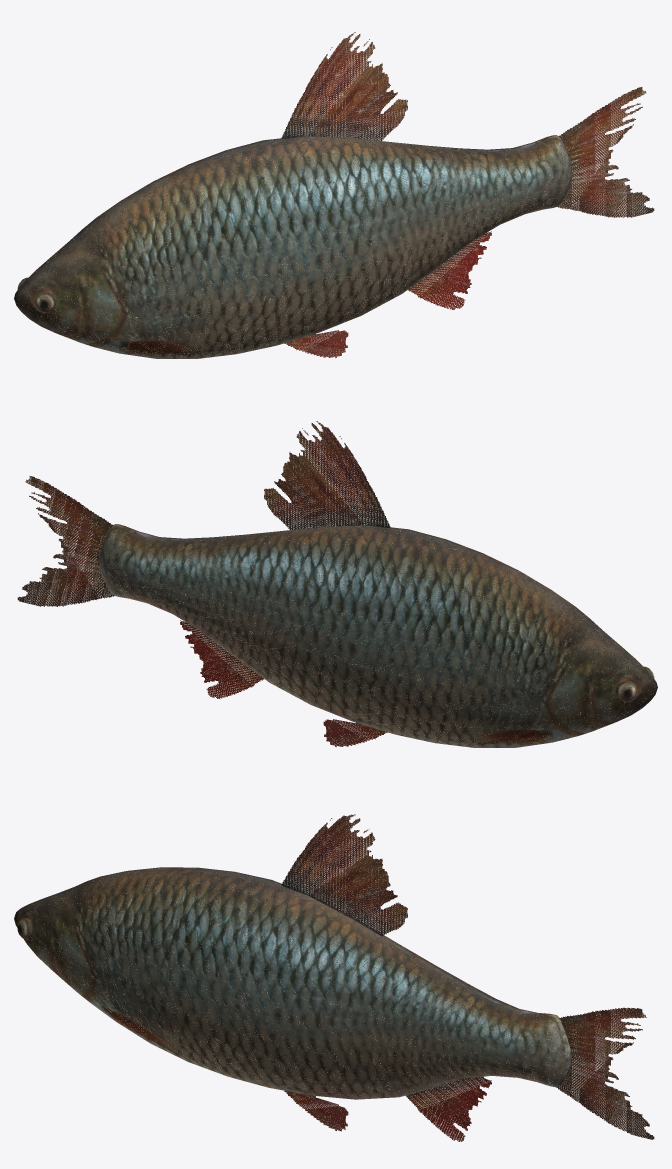
3 renders of one model, top to bottom at view 1: azimuth 30°, elevation 25°; view 2: azimuth 150°, elevation 25°; view 3: azimuth 330°, elevation 25°, orthographic.
Parts seen in each view (by area): view 1: FISH_Combined; view 2: FISH_Combined; view 3: FISH_Combined.
Boxes of the visible parts, x1,y1,x2,y2 form: FISH_Combined: (14, 32, 654, 358); FISH_Combined: (17, 421, 657, 747); FISH_Combined: (14, 814, 654, 1141).
Size of the model in its own units: 0.7623 by 0.3741 by 0.0885.
1 material, 1 textured.
